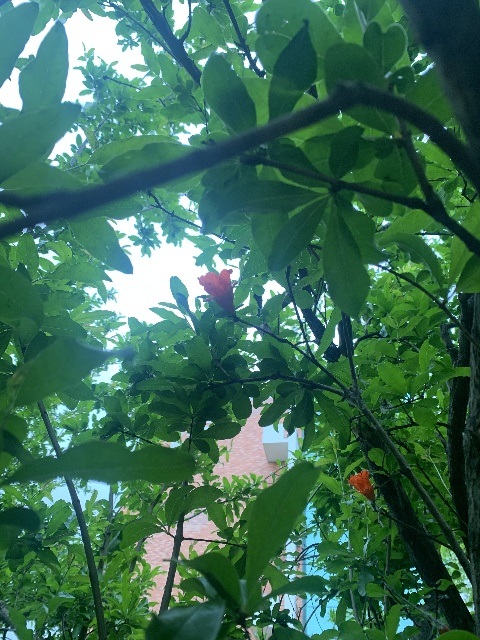flower: (198, 269, 234, 315), (346, 469, 374, 500)
